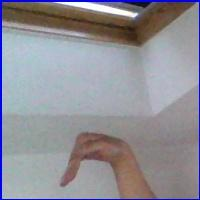del: (57, 128, 138, 192)
